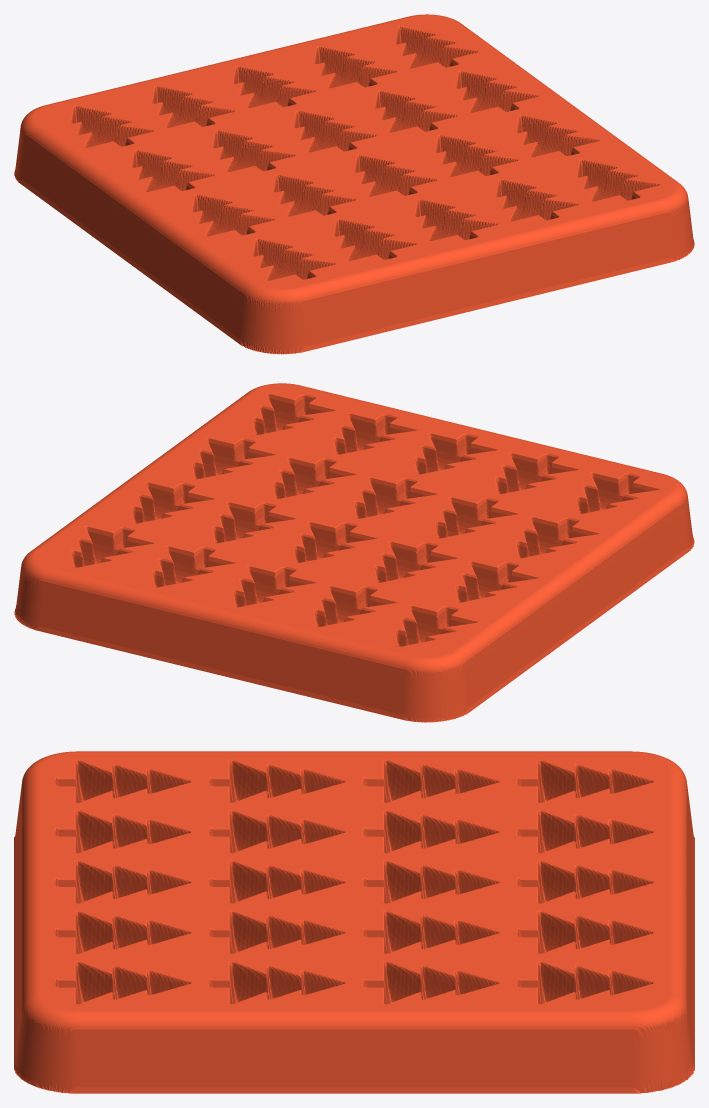
Rendered from mold.glb.
The picture shows the model from 3 angles, top to bottom: view 1: azimuth 30°, elevation 25°; view 2: azimuth 150°, elevation 25°; view 3: azimuth 270°, elevation 25°; orthographic projection. The views are drawn at different scales.
Parts seen in each view (by area): view 1: geometry_0; view 2: geometry_0; view 3: geometry_0.
Part boxes in pixels (x1=…): geometry_0: x1=14, y1=14, x2=694, y2=354; geometry_0: x1=14, y1=383, x2=694, y2=722; geometry_0: x1=14, y1=751, x2=694, y2=1093.
Bounding box in the file's own units: 0.0942 × 0.0114 × 0.0972.
